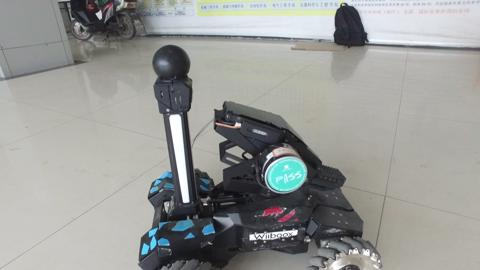chariot: (129, 56, 374, 268)
